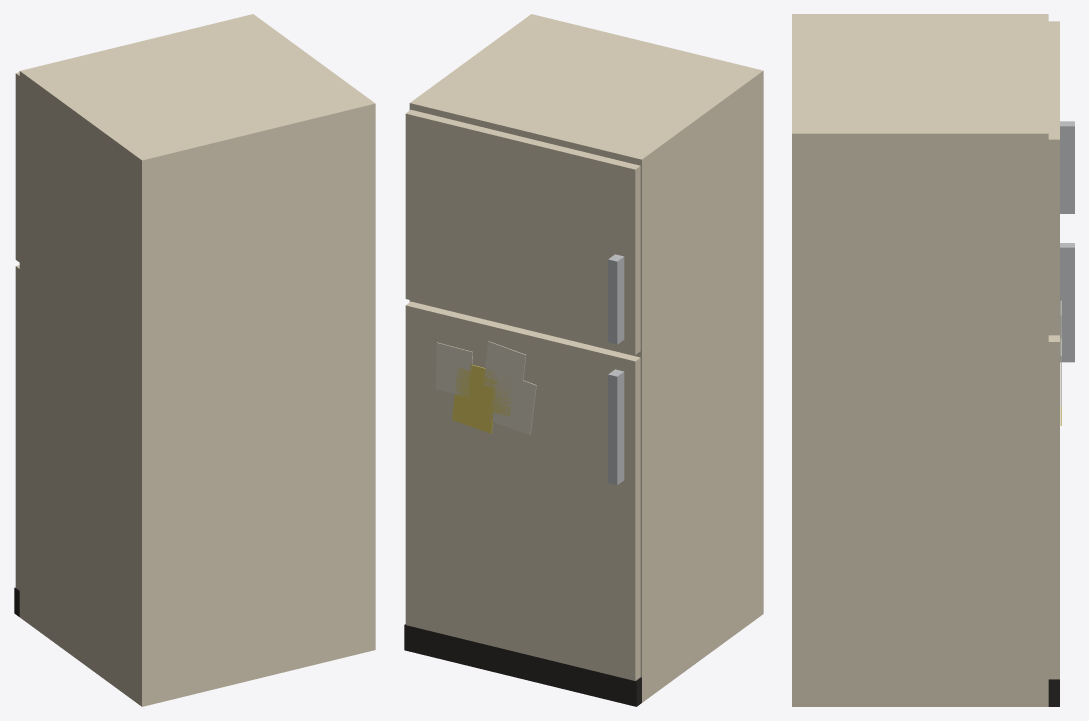
Rendered from SM_80s_Fridge.glb.
3 renders of one model, left to right at view 1: azimuth 30°, elevation 25°; view 2: azimuth 150°, elevation 25°; view 3: azimuth 270°, elevation 25°, orthographic. The views are drawn at different scales.
Parts seen in each view (by area): view 1: SM_80s_Fridge; view 2: SM_80s_Fridge; view 3: SM_80s_Fridge.
Part boxes in pixels (bbox=[...]): SM_80s_Fridge: bbox=[14, 14, 375, 706]; SM_80s_Fridge: bbox=[404, 14, 763, 706]; SM_80s_Fridge: bbox=[792, 14, 1074, 706].
Bounding box in the file's own units: 1 × 2.24 × 1.
